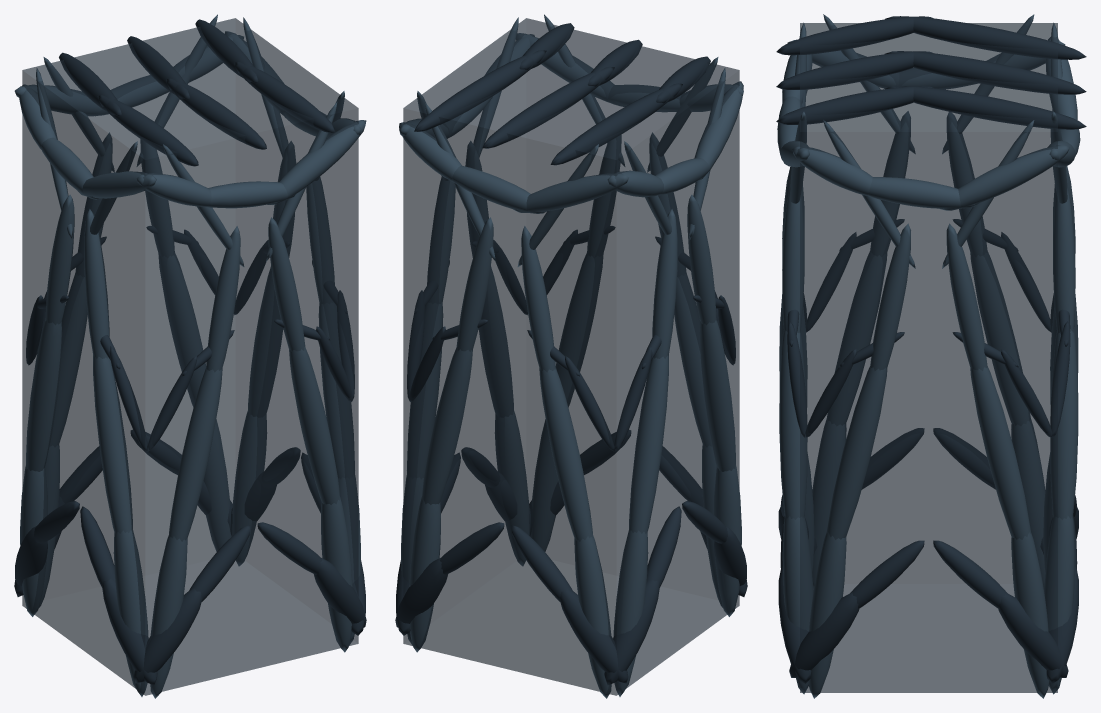
The model's file is CMU3DHiveWallXenoMembrane.glb.
3 views of the same model, side by side, from view 1: azimuth 30°, elevation 25°; view 2: azimuth 150°, elevation 25°; view 3: azimuth 270°, elevation 25° (orthographic). The views are drawn at different scales.
Parts seen in each view (by area): view 1: continuous resin backing, arching load-bearing tendon (×31), lower root buttress (×12), crown collar (×9), sealed roof fold (×6), branching surface crease (×7); view 2: continuous resin backing, arching load-bearing tendon (×31), lower root buttress (×12), crown collar (×9), sealed roof fold (×6), branching surface crease (×7); view 3: continuous resin backing, arching load-bearing tendon (×28), sealed roof fold (×6), lower root buttress (×8), crown collar (×10), branching surface crease (×6).
Boxes of the visible parts, x1,y1,x2,y2 form: continuous resin backing: [22, 18, 358, 695]; arching load-bearing tendon (×31): [20, 14, 360, 698]; lower root buttress (×12): [15, 430, 366, 685]; crown collar (×9): [14, 35, 366, 208]; sealed roof fold (×6): [59, 19, 334, 166]; branching surface crease (×7): [26, 230, 354, 451]; continuous resin backing: [403, 18, 739, 695]; arching load-bearing tendon (×31): [401, 14, 741, 698]; lower root buttress (×12): [395, 430, 746, 685]; crown collar (×9): [399, 33, 743, 213]; sealed roof fold (×6): [414, 23, 710, 165]; branching surface crease (×7): [407, 230, 735, 451]; continuous resin backing: [800, 23, 1057, 692]; arching load-bearing tendon (×28): [779, 14, 1078, 698]; sealed roof fold (×6): [776, 16, 1086, 129]; lower root buttress (×8): [778, 428, 1078, 683]; crown collar (×10): [777, 37, 1077, 210]; branching surface crease (×6): [787, 232, 1070, 437].
Size of the model in its own units: 1.17 by 2.5 by 1.21.
